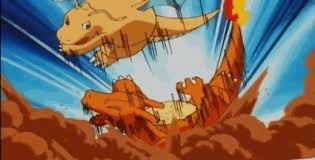charizard: (76, 19, 278, 135)
